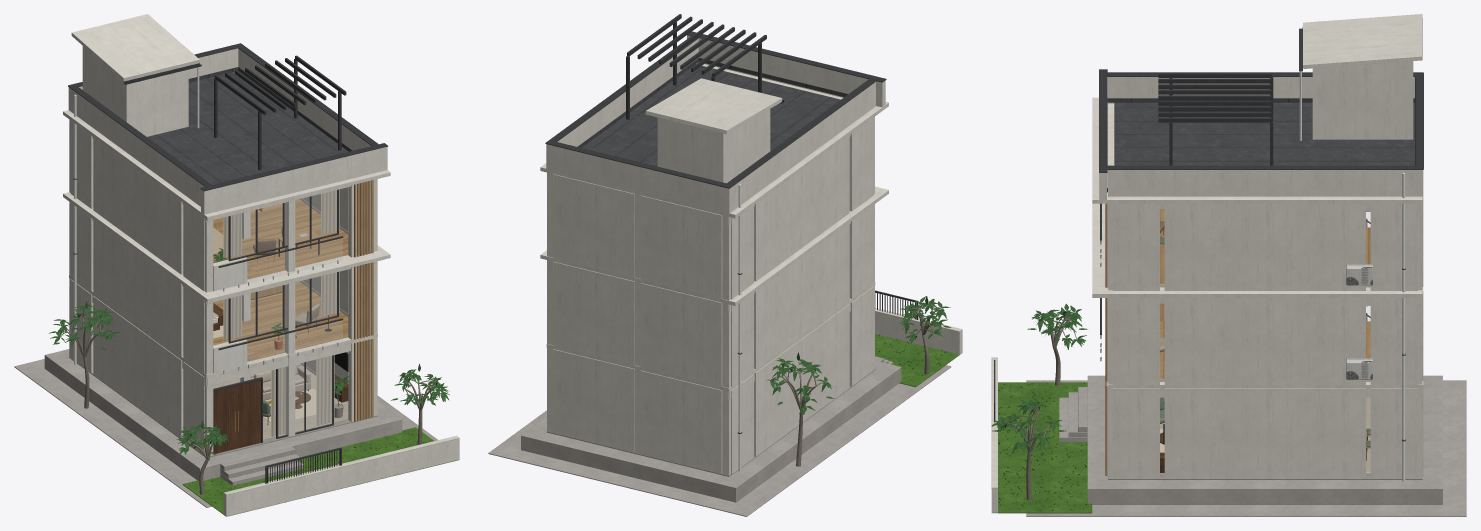
Rendered from house.glb.
3 views of the same model, side by side, from view 1: azimuth 30°, elevation 25°; view 2: azimuth 150°, elevation 25°; view 3: azimuth 270°, elevation 25° (orthographic). The views are drawn at different scales.
Visible parts, largest first — view 1: RoofMembrane_1, Podium_1, Render_47, Render_46, StairLid_1, Render_45, Floor_3, Floor_2, Ground_1, Slab_3, Render_3, Render_16 (+75 smaller); view 2: Podium_1, Ground_1, Render_24, Render_38, Render_11, Render_12, Render_39, Render_25, RoofMembrane_1, Render_46, Render_42, StairLid_1 (+39 smaller); view 3: RoofMembrane_1, Podium_1, Lawn_1, Render_4, Render_31, Render_17, Render_44, Ground_1, Render_46, StairLid_1, Render_2, Render_6 (+38 smaller).
Part boxes in pixels (<box>): RoofMembrane_1: <box>147,71,348,184</box>; Podium_1: <box>44,349,402,480</box>; Render_47: <box>223,435,459,516</box>; Render_46: <box>82,46,188,136</box>; StairLid_1: <box>71,14,199,81</box>; Render_45: <box>201,146,387,214</box>; Floor_3: <box>213,198,348,279</box>; Floor_2: <box>213,281,348,361</box>; Ground_1: <box>14,359,437,507</box>; Slab_3: <box>63,192,390,302</box>; Render_3: <box>115,312,159,422</box>; Render_16: <box>115,235,159,340</box>; Podium_1: <box>521,360,901,502</box>; Ground_1: <box>488,365,951,516</box>; Render_24: <box>640,283,722,386</box>; Render_38: <box>640,195,722,299</box>; Render_11: <box>640,370,722,474</box>; Render_12: <box>553,349,634,452</box>; Render_39: <box>553,174,634,277</box>; Render_25: <box>553,262,634,365</box>; RoofMembrane_1: <box>582,64,840,166</box>; Render_46: <box>657,109,770,183</box>; Render_42: <box>546,144,729,213</box>; StairLid_1: <box>645,78,782,134</box>; RoofMembrane_1: <box>1114,102,1414,165</box>; Podium_1: <box>1087,375,1442,504</box>; Lawn_1: <box>993,382,1092,513</box>; Render_4: <box>1215,388,1315,479</box>; Render_31: <box>1215,203,1315,290</box>; Render_17: <box>1215,298,1315,384</box>; Render_44: <box>1108,170,1422,196</box>; Ground_1: <box>1026,380,1466,516</box>; Render_46: <box>1312,61,1413,139</box>; StairLid_1: <box>1303,14,1422,68</box>; Render_2: <box>1315,388,1365,479</box>; Render_6: <box>1164,388,1214,479</box>.
Bounding box in the file's own units: 11.14 × 13.63 × 15.11.
40 materials, 40 textured.
